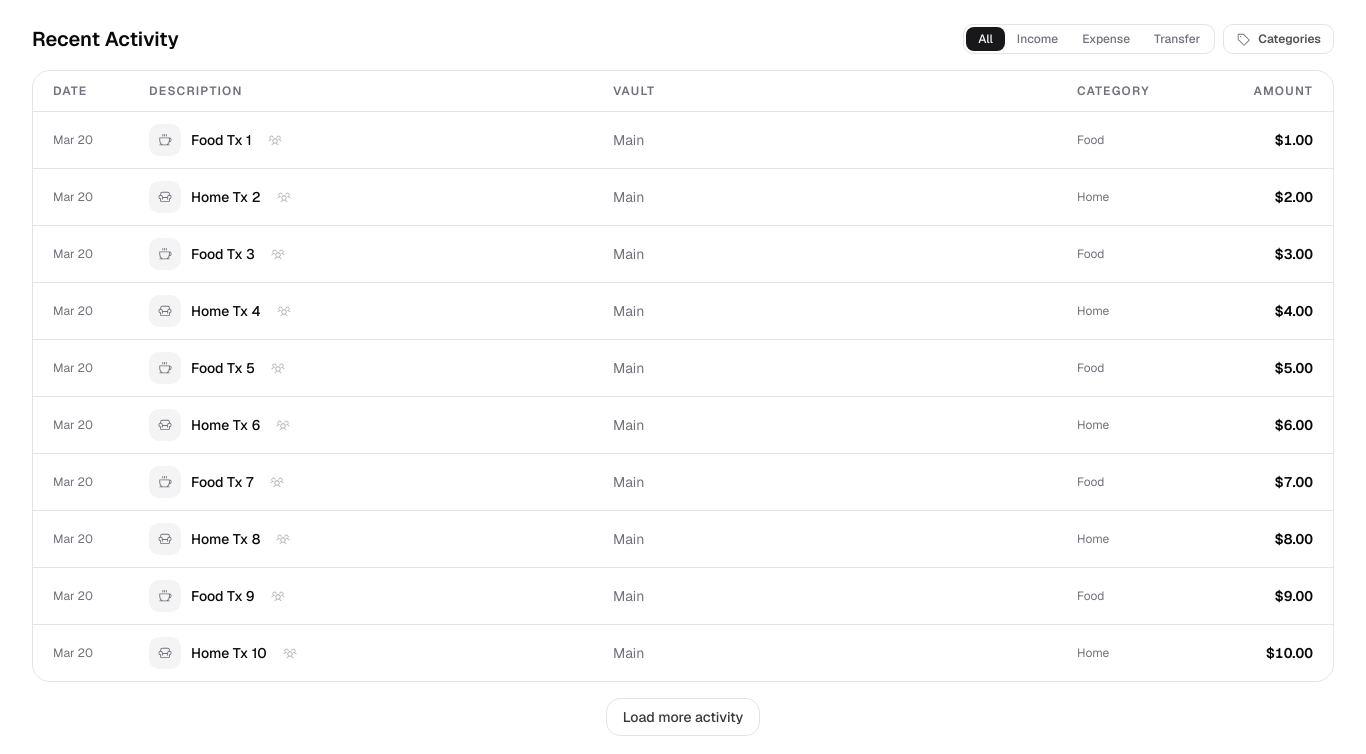
Scenario: Vaults Recent Activity pagination › shows more movements without reloading
(page scrolled)
Expected: the heading "Recent Activity" is shown, 32,24 -> 179,52
Expected: the text "Food Tx 11" is not shown
Click the button "Load more activity". click: click(683, 716)
box: 606,698 -> 760,736
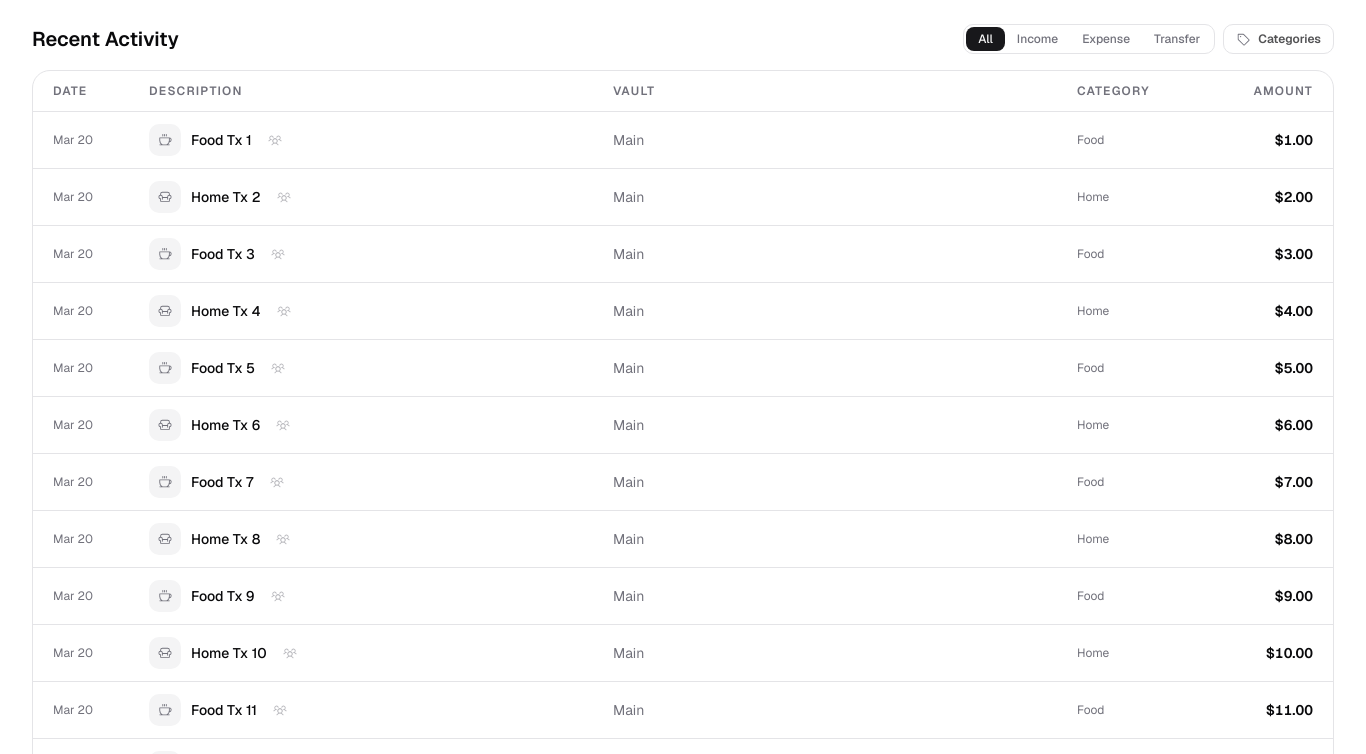
Expected: the text "Food Tx 11" is shown, 191,700 -> 257,720
